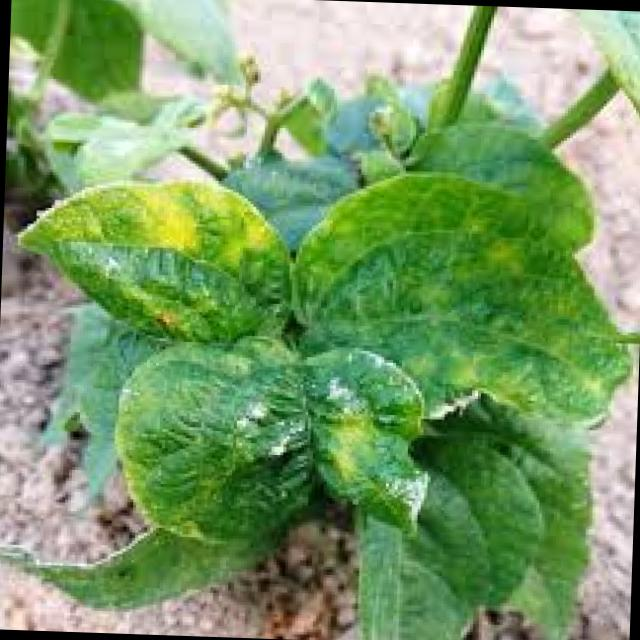Chilli_Leaf_Curl: (0, 0, 640, 640), (281, 161, 640, 429), (347, 383, 596, 640), (8, 170, 295, 345), (108, 334, 320, 546), (292, 342, 432, 532), (7, 0, 147, 109), (548, 8, 640, 146)
